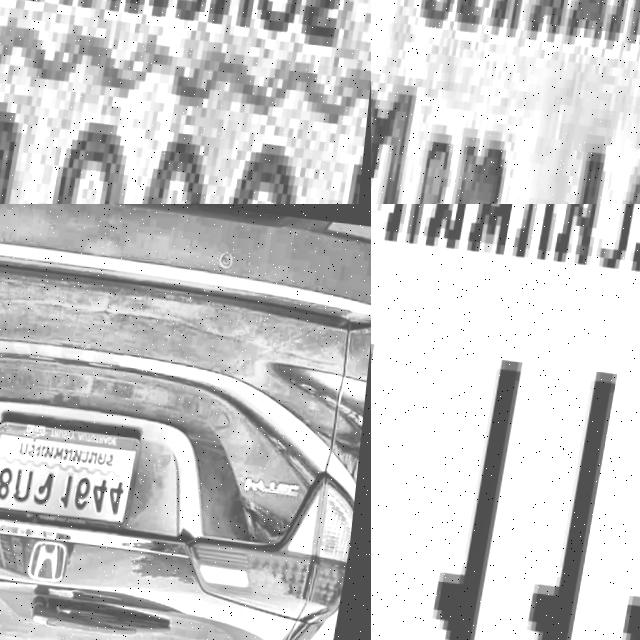license-plate: (371, 204, 640, 640), (0, 0, 371, 204), (371, 0, 640, 204), (0, 410, 149, 530)
